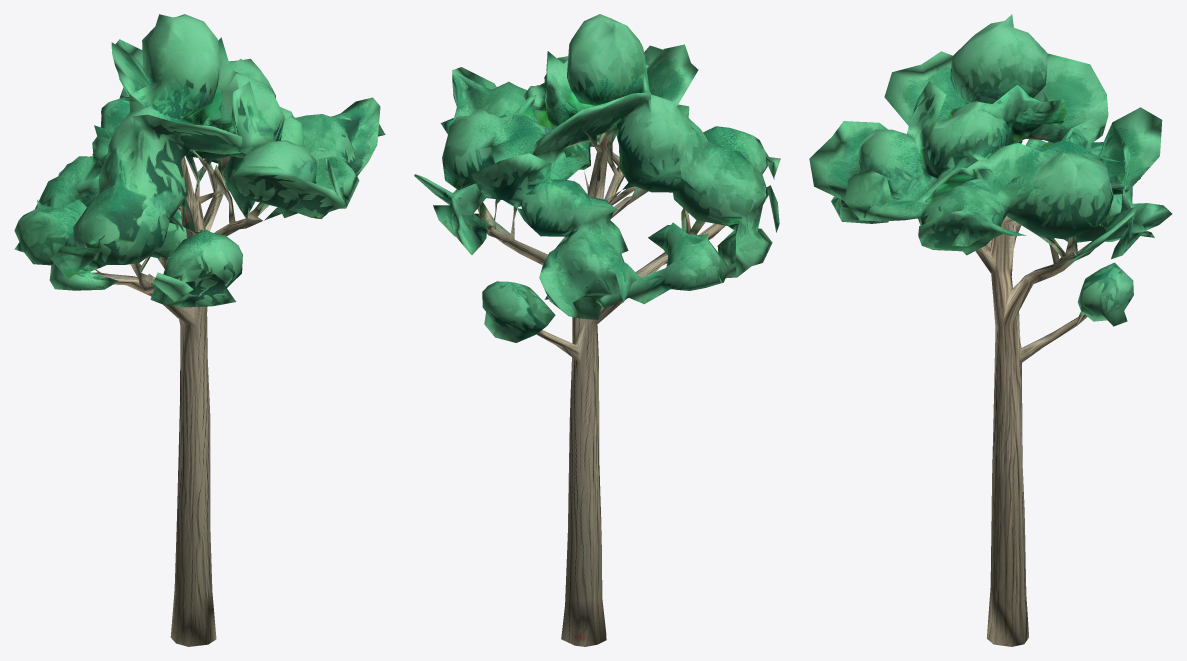
The picture shows the model from 3 angles, left to right: view 1: azimuth 30°, elevation 25°; view 2: azimuth 150°, elevation 25°; view 3: azimuth 270°, elevation 25°; orthographic projection. The views are drawn at different scales.
Parts seen in each view (by area): view 1: Mesh_0; view 2: Mesh_0; view 3: Mesh_0.
Boxes of the visible parts, x1,y1,x2,y2 form: Mesh_0: [14, 14, 385, 646]; Mesh_0: [414, 14, 780, 646]; Mesh_0: [809, 14, 1172, 646].
Bounding box in the file's own units: 1.04 × 1.89 × 1.02.
Materials: 1 (1 with a texture image).
